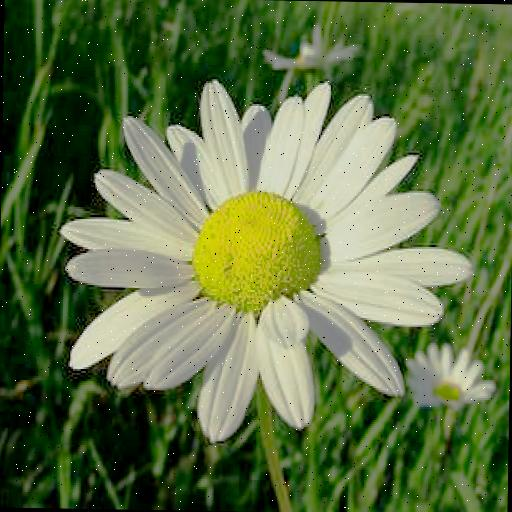daisy: (80, 87, 459, 431), (406, 353, 490, 406)
